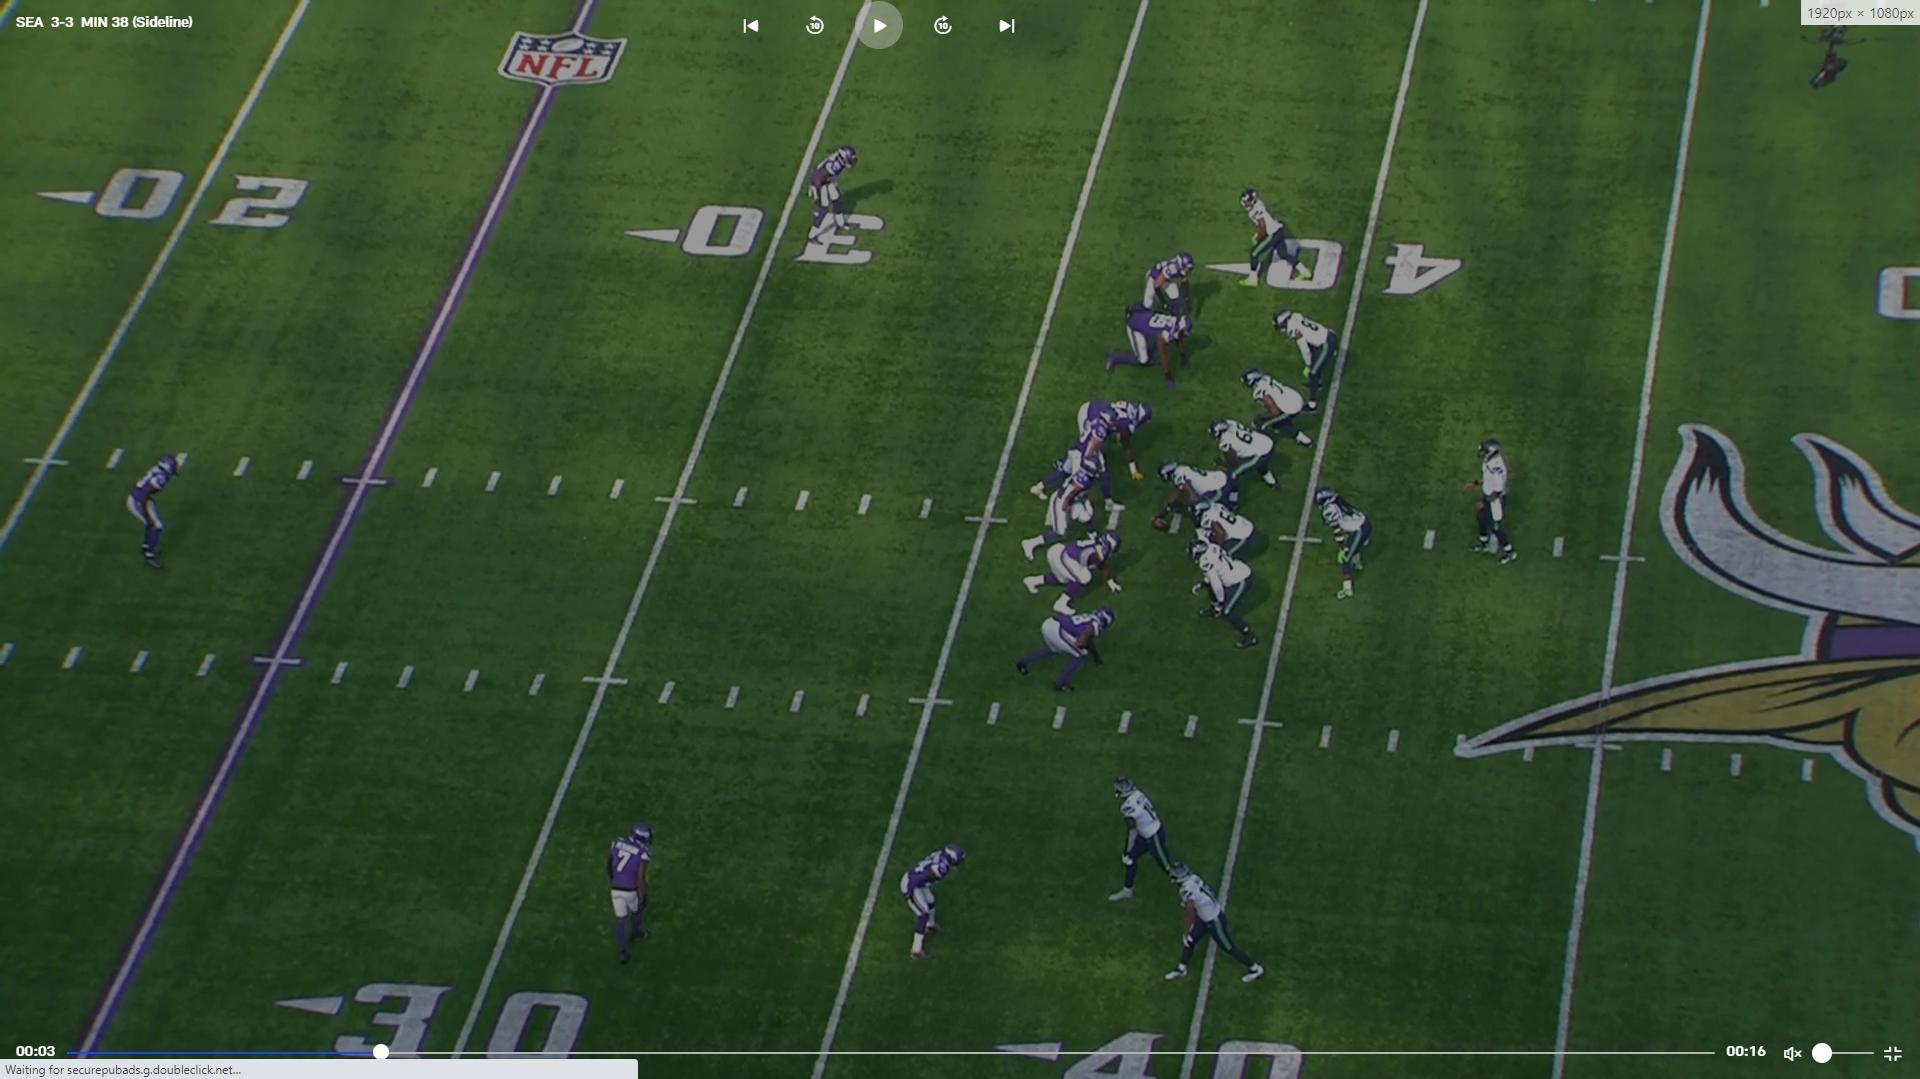defense: (1013, 605, 1121, 699), (1023, 454, 1113, 561), (1022, 534, 1127, 616), (605, 818, 662, 970), (899, 840, 968, 966), (1030, 427, 1121, 518), (1102, 313, 1201, 393), (123, 450, 185, 572), (1058, 400, 1153, 471), (807, 139, 865, 251), (1130, 249, 1203, 324)
oline: (1191, 543, 1270, 653), (1213, 417, 1286, 508), (1242, 365, 1317, 452), (1155, 456, 1233, 533), (1187, 500, 1257, 558)
qb: (1469, 433, 1522, 566)
skill: (1153, 860, 1270, 991), (1101, 768, 1197, 908), (1316, 480, 1381, 603), (1271, 307, 1342, 410), (1238, 185, 1309, 288)
